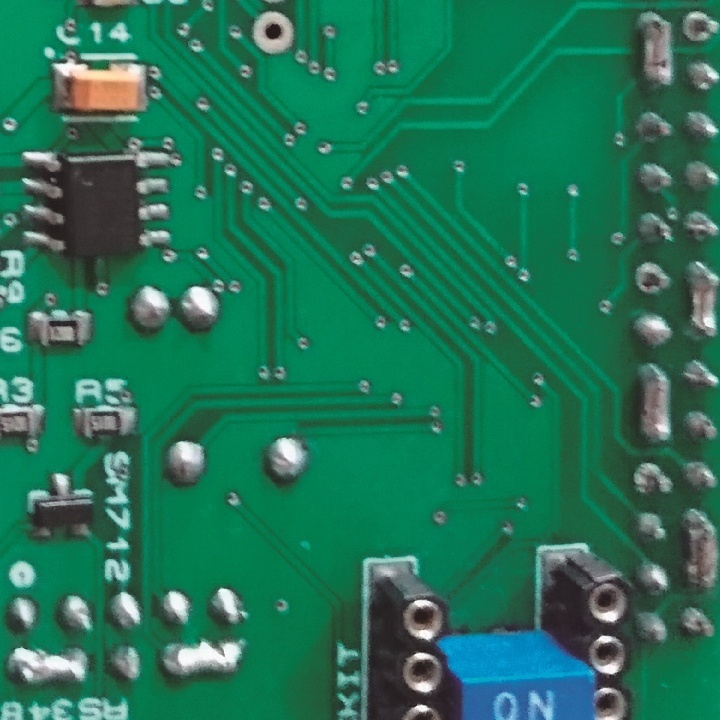F: (248, 9, 299, 58), (633, 459, 676, 504), (681, 9, 719, 49), (633, 258, 669, 299)
P: (153, 636, 250, 683), (4, 643, 93, 688), (636, 11, 678, 92), (682, 505, 720, 593), (639, 360, 674, 450), (685, 258, 719, 345)
